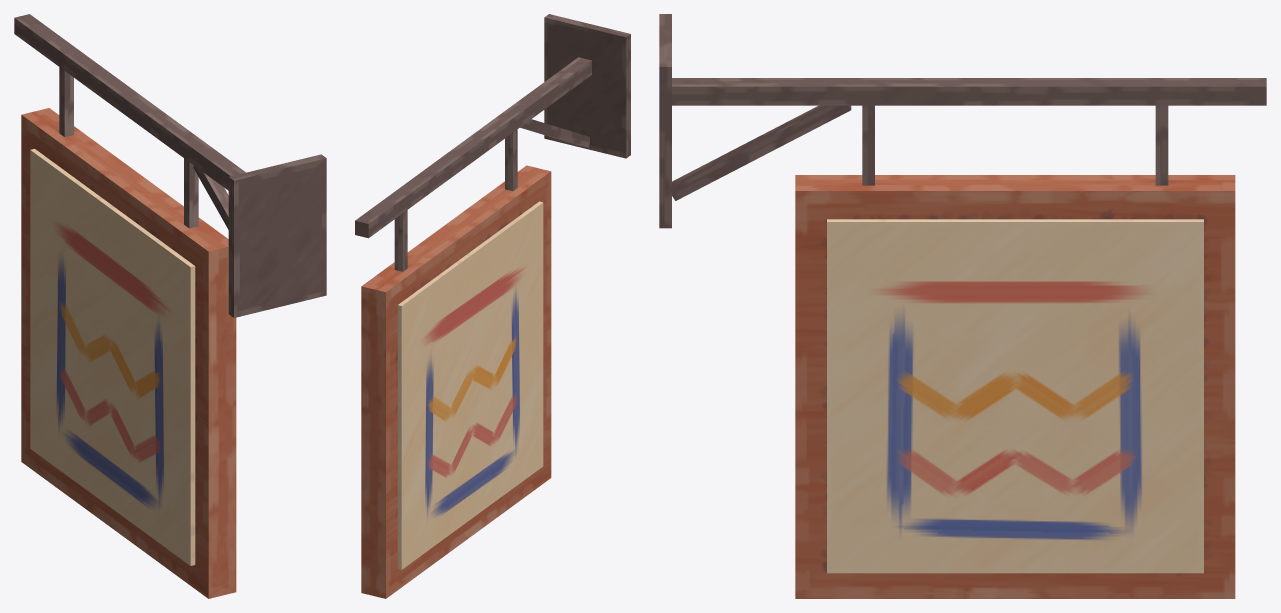
Rendered from sign_cloth.bundle.fbx.
3 views of the same model, side by side, from view 1: azimuth 30°, elevation 25°; view 2: azimuth 150°, elevation 25°; view 3: azimuth 270°, elevation 25° (orthographic). The views are drawn at different scales.
Visible parts, largest first — view 1: sign_cloth, sign_cloth_low; view 2: sign_cloth, sign_cloth_low; view 3: sign_cloth, sign_cloth_low.
Boxes of the visible parts, box(x1,y1,x2,y2) form: sign_cloth: box(14, 14, 326, 592); sign_cloth_low: box(21, 108, 236, 598); sign_cloth: box(355, 14, 630, 593); sign_cloth_low: box(361, 165, 551, 598); sign_cloth: box(659, 14, 1266, 593); sign_cloth_low: box(795, 175, 1235, 598).
Bounding box in the file's own units: 0.6 × 2.9 × 2.9.
1 material, 1 textured.
